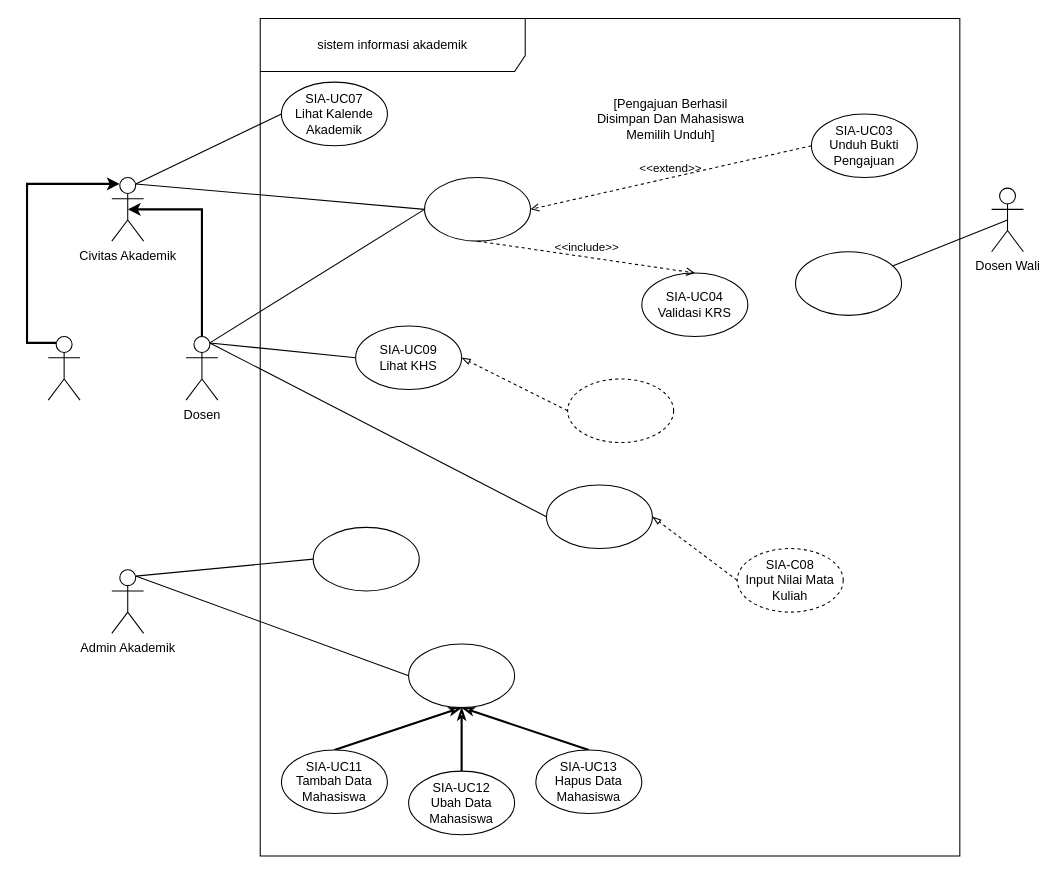
This 1058x874 diagram has some shape labels left out. The centre of each missing label's shape, as x and y in pixels:
"Mahasiswa" goes at (63,367).
"SIA-C09 Lihat KHS" goes at (620,410).
"SIA-UC01 Ajukan KRS" goes at (477,208).
"SIA-UC02 Kelola Jadwal Kuliah" goes at (365,558).
"SIA-UC06 Proses Keputusan KRS" goes at (848,283).
"SIA-UC08 Input Nilai Mata Kuliah" goes at (598,516).
"SIA-UC10 Kelola Data Mahasiswa" goes at (461,675).
